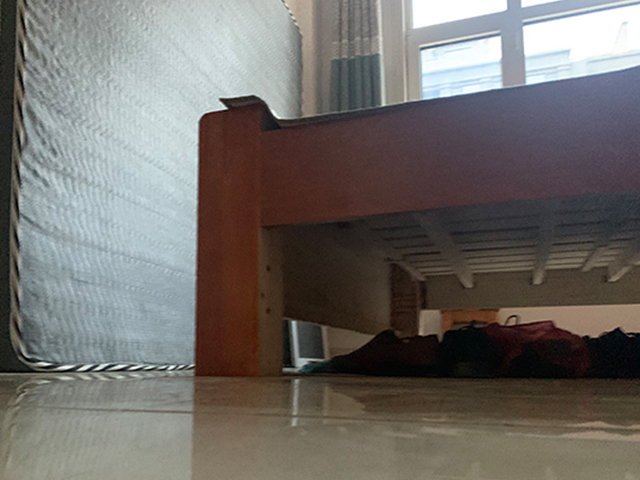bed: (194, 63, 640, 379)
